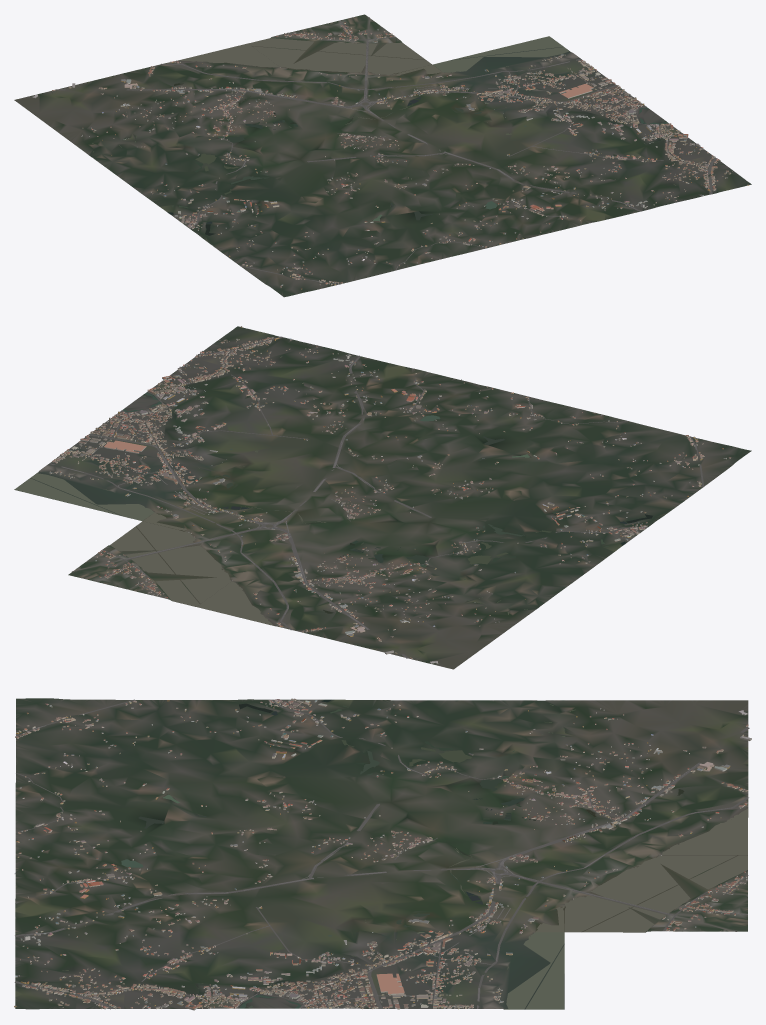
The picture shows the model from 3 angles, top to bottom: view 1: azimuth 30°, elevation 25°; view 2: azimuth 150°, elevation 25°; view 3: azimuth 270°, elevation 25°; orthographic projection. The views are drawn at different scales.
Parts seen in each view (by area): view 1: ground, buildings, water, roads; view 2: ground, buildings, water, roads; view 3: ground, buildings, water, roads.
Boxes of the visible parts, bbox=[...] form: ground: bbox=[14, 14, 751, 297]; buildings: bbox=[32, 22, 749, 289]; water: bbox=[92, 36, 675, 235]; roads: bbox=[55, 17, 717, 285]; ground: bbox=[14, 326, 751, 669]; buildings: bbox=[49, 326, 731, 663]; water: bbox=[14, 356, 652, 625]; roads: bbox=[49, 336, 704, 658]; ground: bbox=[15, 698, 748, 1009]; buildings: bbox=[14, 698, 751, 1010]; water: bbox=[62, 699, 747, 1009]; roads: bbox=[14, 699, 749, 1009].
Size of the model in its own units: 5631 by 37.25 by 5650.
